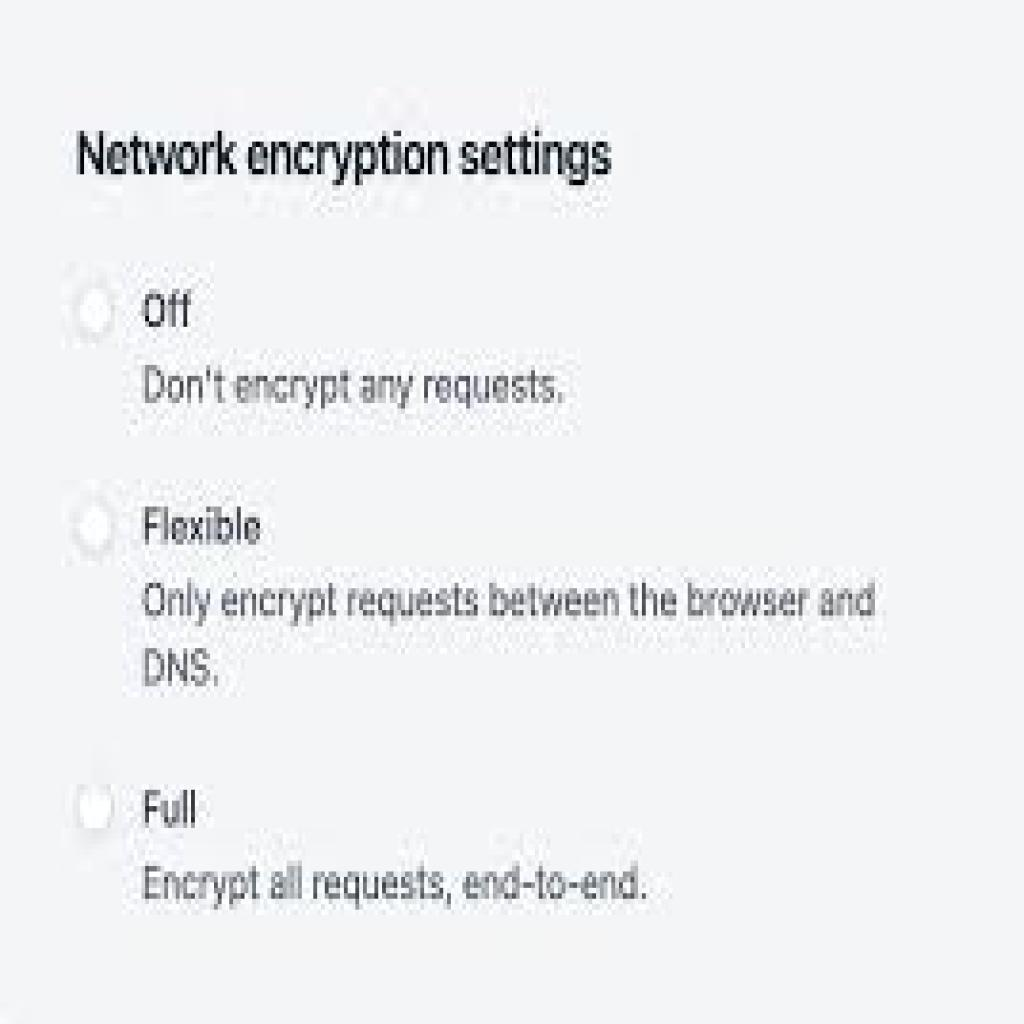label: (71, 130, 622, 188), (141, 498, 275, 549), (137, 784, 199, 837), (142, 281, 198, 334)
radio: (67, 492, 119, 563), (69, 781, 123, 843), (69, 279, 120, 344)
